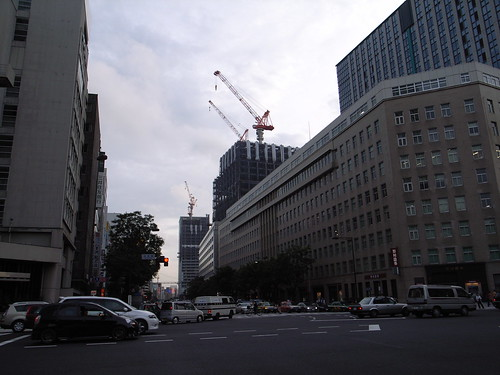building: (228, 73, 500, 308), (1, 1, 88, 294), (337, 1, 500, 113), (178, 215, 208, 278)
car: (28, 302, 140, 344), (407, 283, 476, 316), (351, 292, 410, 317), (164, 304, 207, 325)
crane: (215, 62, 275, 142), (202, 101, 251, 144), (179, 177, 203, 218)
sky: (99, 1, 342, 201)
street: (1, 310, 500, 375)
tree: (103, 212, 167, 294)
